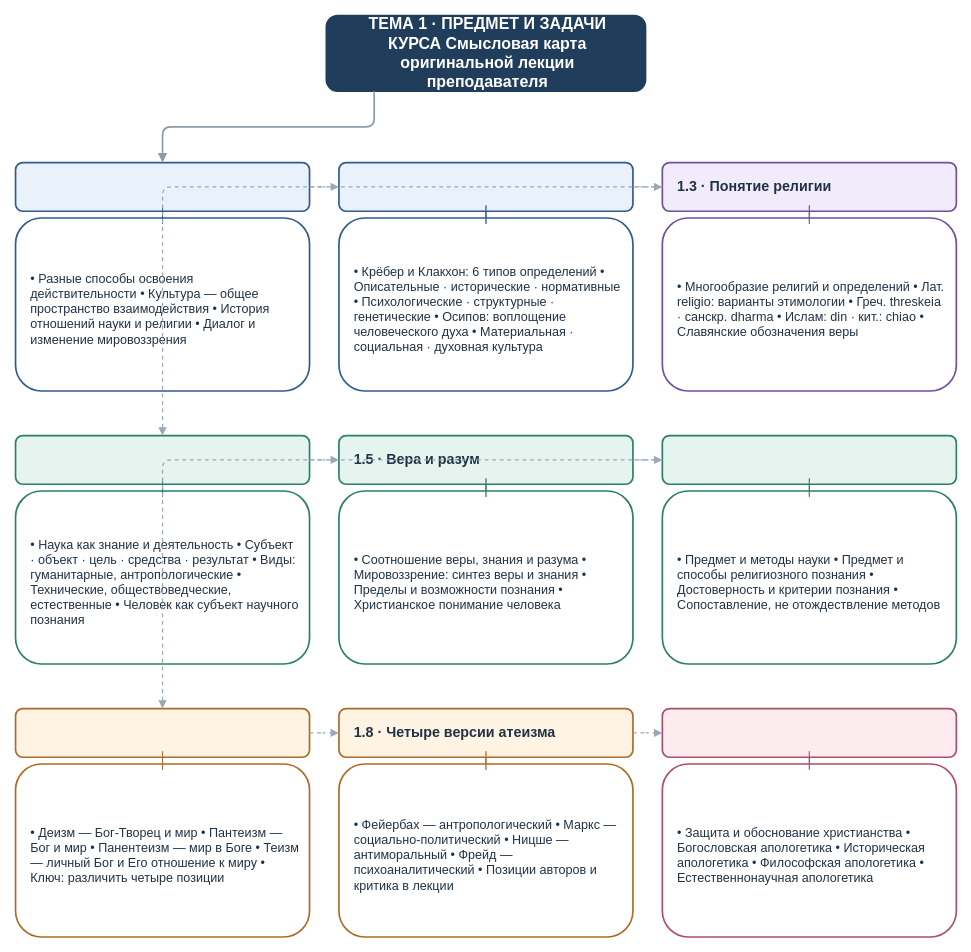
Some shapes in this 971 by 952 pixel diagram are drawn without their labels. Each missing label, with the centre of its shape:
"1.1 · Наука и религия в культуре" goes at point (162, 186).
"1.2 · Определения культуры" goes at point (485, 186).
"1.4 · Определение науки" goes at point (162, 459).
"1.6 · Различие методологий" goes at point (809, 459).
"1.7 · Религиозно-философские системы" goes at point (162, 732).
"1.9 · Основное богословие (апологетика)" goes at point (809, 732).
